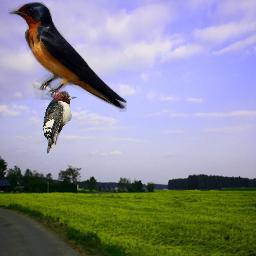Swallow: (8, 2, 127, 112)
Woodpecker: (43, 91, 77, 154)
